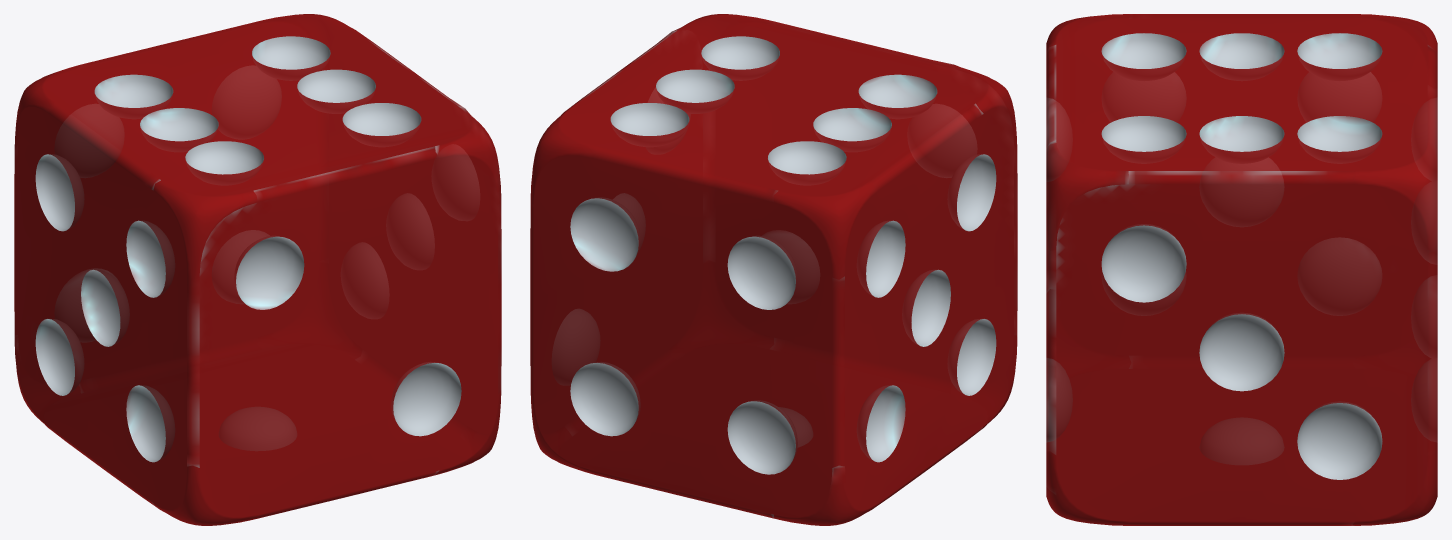
3 views of the same model, side by side, from view 1: azimuth 30°, elevation 25°; view 2: azimuth 150°, elevation 25°; view 3: azimuth 270°, elevation 25° (orthographic). The views are drawn at different scales.
Visible parts, largest first — view 1: g (×2); view 2: g (×2); view 3: g (×2).
Part boxes in pixels (left/top/right/bottom): g (×2): left=14, top=14, right=501, bottom=525; g (×2): left=530, top=14, right=1017, bottom=525; g (×2): left=1046, top=14, right=1437, bottom=525.
Bounding box in the file's own units: 2 × 2 × 2.
1 material, 1 textured.
